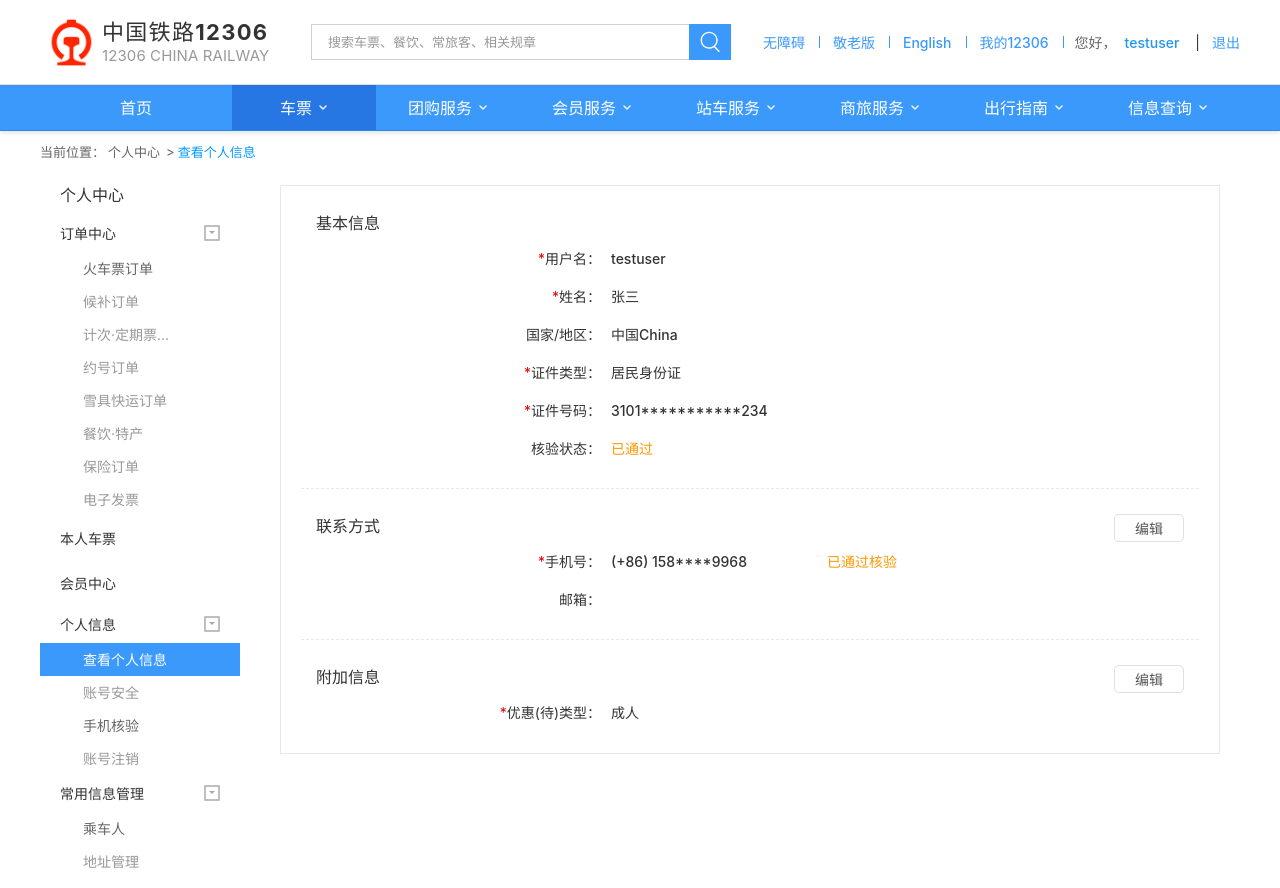
Test case: 个人信息编辑流程跨页测试 › [P1] 邮箱编辑流程 › 应该能够进入联系方式编辑模式
Click the button with class "edit-button" in the row of "联系方式".
click(1149, 528)  # box [1114,514,1184,542]
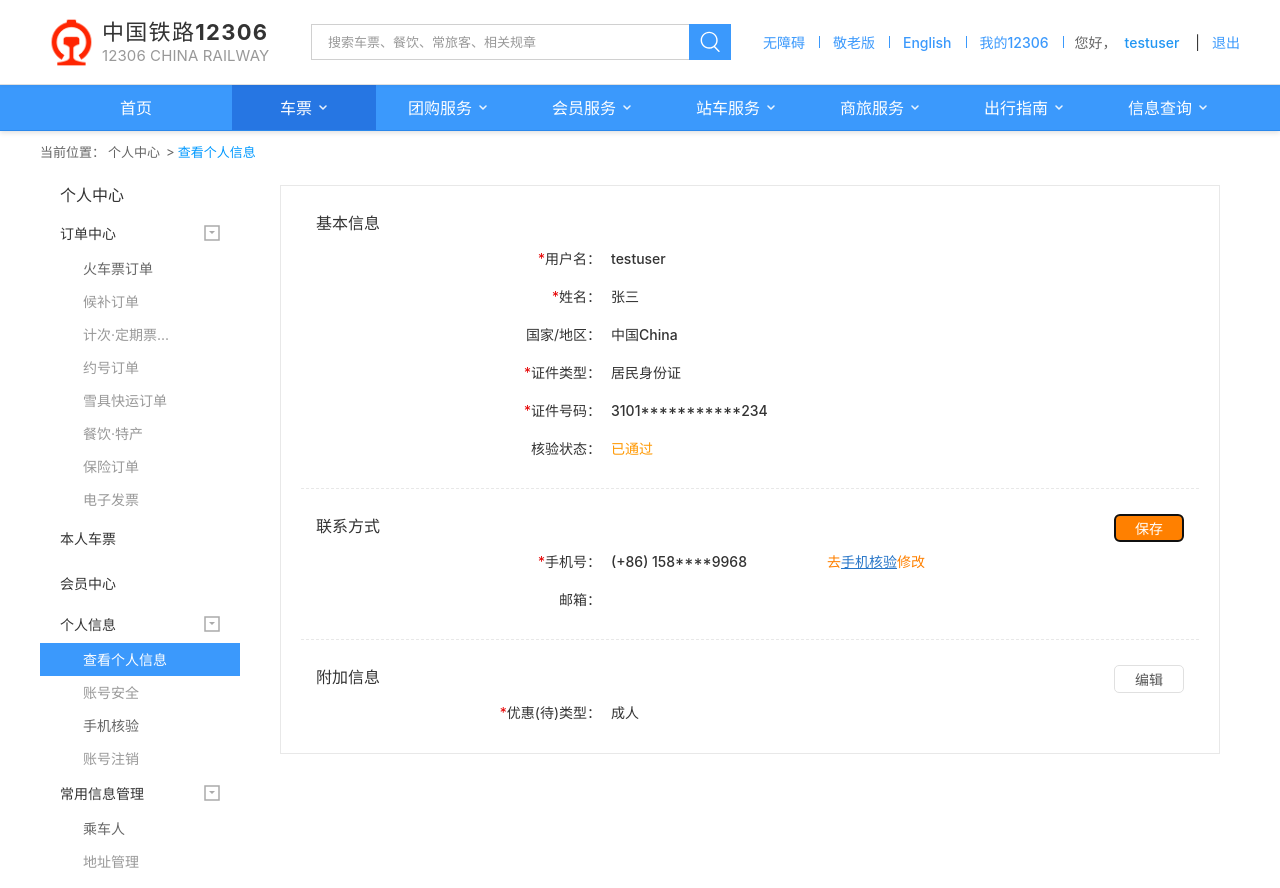
Check: the text "手机核验" next to "修改" is shown, box [841,552,897,570]
